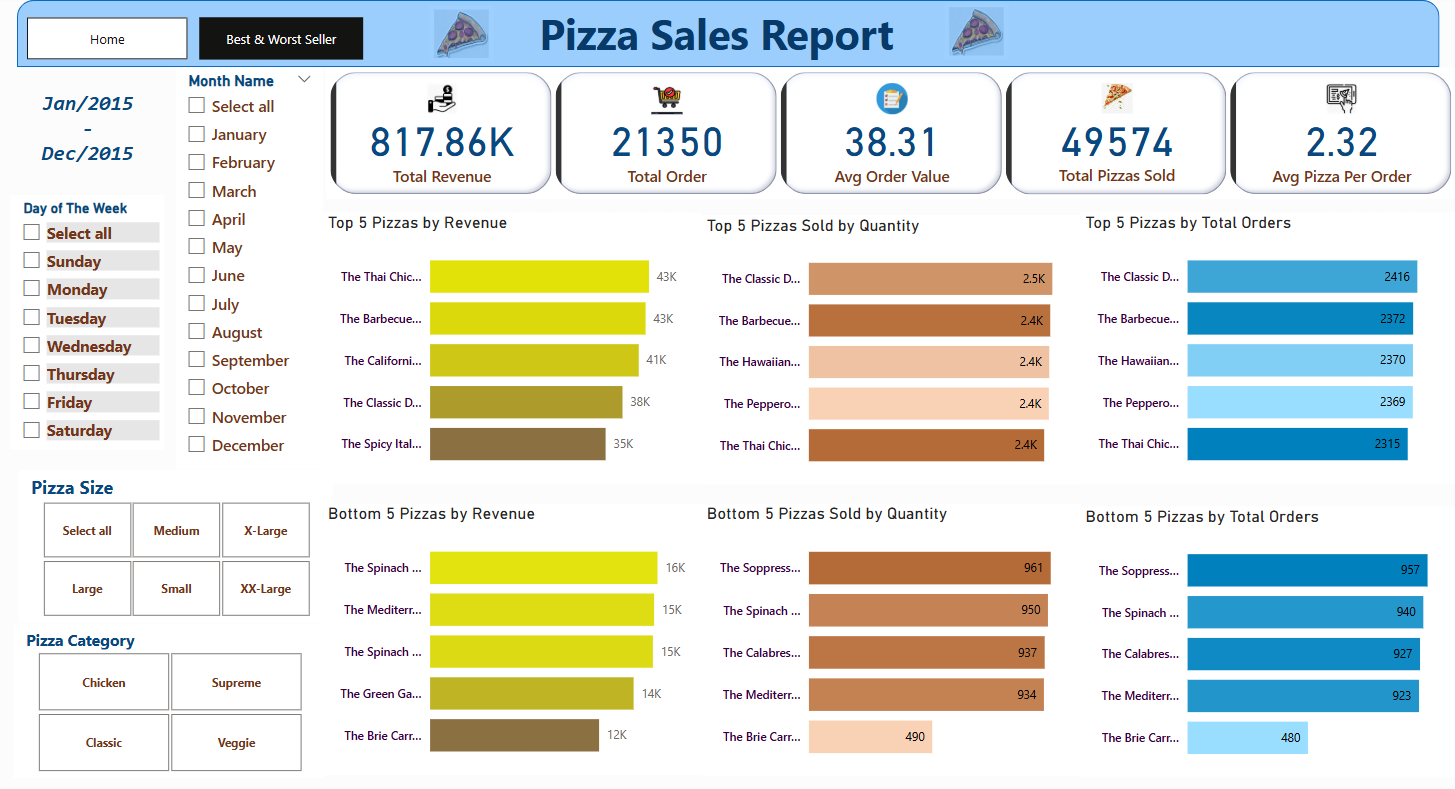

The page's visual inventory and layout, read from the dashboard file:
{"tool":"powerbi","page":{"name":"Best & Worst Seller","canvas":[1500,820],"ordinal":1},"visuals":[{"type":"cardVisual","fields":{"Data":["pizza_hut pizzas.Total Revenue","pizza_hut order_details.Total Order","pizza_hut order_details.Avg Order Value","pizza_hut order_details.Total Pizzas Sold","pizza_hut order_details.Avg Pizza Per Order"]},"box":[337.7,69.1,1162.6,135.1],"z":0},{"type":"textbox","box":[456.3,0,566.2,84.5],"z":1000},{"type":"image","box":[443.7,5.6,66.2,59.2],"z":2000},{"type":"image","box":[973.2,2.8,66.2,59.2],"z":3000},{"type":"slicer","fields":{"Values":["pizza_hut orders.Day Name"]},"box":[14.1,200,157.7,262],"z":4000},{"type":"slicer","fields":{"Values":["pizza_hut pizza_types.category"]},"box":[16.4,640.4,320.2,158.1],"z":5000},{"type":"slicer","fields":{"Values":["pizza_hut pizzas.size"]},"box":[21.8,482.4,322.9,156.7],"z":6000},{"type":"textbox","box":[14.1,88.7,157.7,95.8],"z":7000},{"type":"shape","box":[21.1,0,1460.6,69],"z":8000},{"type":"barChart","title":"Top 5 Pizzas by Revenue","fields":{"Category":["pizza_hut pizza_types.name"],"Y":["pizza_hut pizzas.Total Revenue"]},"box":[334.5,218.7,389.2,278.2],"z":9000},{"type":"barChart","title":"Bottom 5 Pizzas by Revenue","fields":{"Category":["pizza_hut pizza_types.name"],"Y":["pizza_hut pizzas.Total Revenue"]},"box":[334.5,517.8,389.2,278.2],"z":10000},{"type":"barChart","title":"Top 5 Pizzas Sold by Quantity","fields":{"Category":["pizza_hut pizza_types.name"],"Y":["pizza_hut order_details.Total Pizzas Sold"]},"box":[723.6,220.3,389.2,276.6],"z":11000},{"type":"barChart","title":"Bottom 5 Pizzas Sold by Quantity","fields":{"Category":["pizza_hut pizza_types.name"],"Y":["pizza_hut order_details.Total Pizzas Sold"]},"box":[723.6,517.8,389.2,279.8],"z":12000},{"type":"barChart","title":"Bottom 5 Pizzas by Total Orders","fields":{"Category":["pizza_hut pizza_types.name"],"Y":["CountNonNull(pizza_hut order_details.order_id)"]},"box":[1112.8,519.4,387.5,278.2],"z":13000},{"type":"barChart","title":"Top 5 Pizzas by Total Orders","fields":{"Category":["pizza_hut pizza_types.name"],"Y":["CountNonNull(pizza_hut order_details.order_id)"]},"box":[1112.8,218.7,387.5,278.2],"z":14000},{"type":"slicer","fields":{"Values":["pizza_hut orders.Month Name"]},"box":[184,69.5,151.3,412.9],"z":14001},{"type":"pageNavigator","box":[208.3,18.4,168.6,43.9],"z":14002},{"type":"pageNavigator","box":[31.2,18.4,165.8,43.9],"z":14003}]}

Visuals, with their boxes in screenshot pixels (x1, y1, x2, y2), scaled from the page's 1500x820 canvas onto the 1455x789 screenshot:
cardVisual - pizza_hut pizzas.Total Revenue x pizza_hut order_details.Total Order: BBox(328, 66, 1454, 196)
textbox: BBox(443, 0, 992, 81)
image: BBox(430, 5, 495, 62)
image: BBox(944, 3, 1008, 60)
slicer - pizza_hut orders.Day Name: BBox(14, 192, 167, 445)
slicer - pizza_hut pizza_types.category: BBox(16, 616, 327, 768)
slicer - pizza_hut pizzas.size: BBox(21, 464, 334, 615)
textbox: BBox(14, 85, 167, 178)
shape: BBox(20, 0, 1437, 66)
"Top 5 Pizzas by Revenue" barChart: BBox(324, 210, 702, 478)
"Bottom 5 Pizzas by Revenue" barChart: BBox(324, 498, 702, 766)
"Top 5 Pizzas Sold by Quantity" barChart: BBox(702, 212, 1079, 478)
"Bottom 5 Pizzas Sold by Quantity" barChart: BBox(702, 498, 1079, 767)
"Bottom 5 Pizzas by Total Orders" barChart: BBox(1079, 500, 1454, 767)
"Top 5 Pizzas by Total Orders" barChart: BBox(1079, 210, 1454, 478)
slicer - pizza_hut orders.Month Name: BBox(178, 67, 325, 464)
pageNavigator: BBox(202, 18, 366, 60)
pageNavigator: BBox(30, 18, 191, 60)
